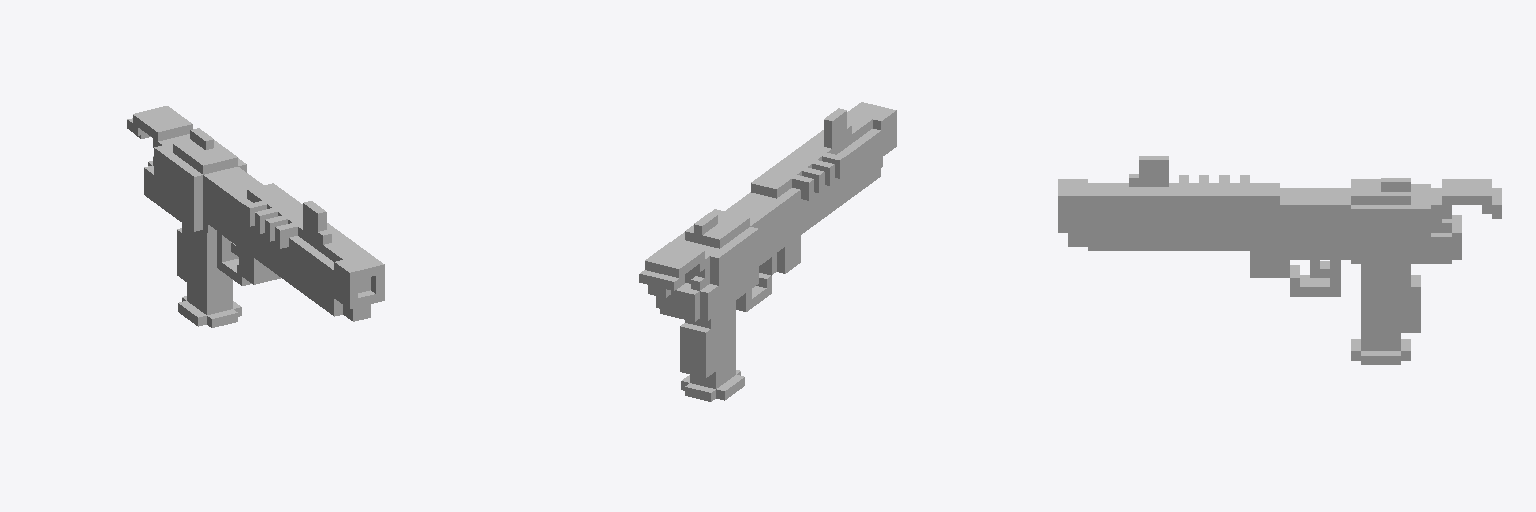
The model's file is gun.obj.
3 renders of one model, left to right at view 1: azimuth 30°, elevation 25°; view 2: azimuth 150°, elevation 25°; view 3: azimuth 270°, elevation 25°, orthographic.
Visible parts, largest first — view 1: Gun_B; view 2: Gun_B; view 3: Gun_B.
Boxes of the visible parts, <box> form: Gun_B: <box>127,106,384,327</box>; Gun_B: <box>639,102,896,401</box>; Gun_B: <box>1058,156,1501,364</box>.
Size of the model in its own units: 0.075 by 0.2625 by 0.55.